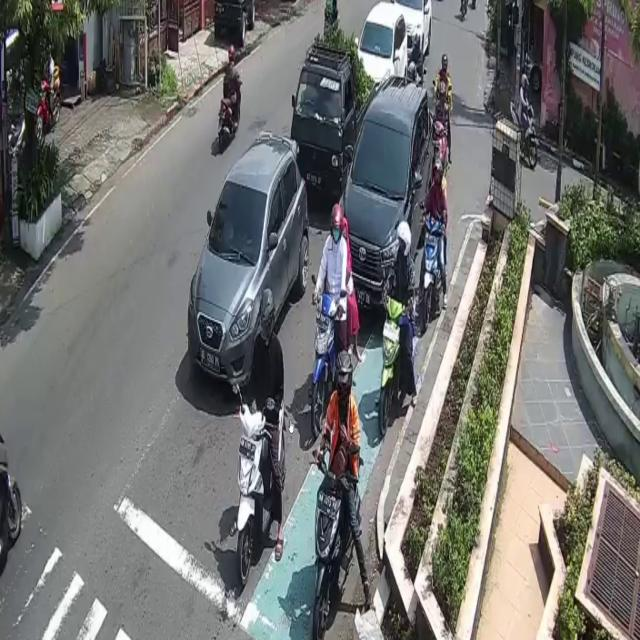bus: (234, 390, 290, 583), (313, 458, 360, 640), (314, 292, 343, 430), (380, 296, 403, 436), (422, 216, 443, 326), (510, 100, 537, 173), (219, 75, 240, 150)
motorcycle: (188, 131, 308, 393), (341, 77, 434, 322), (290, 42, 376, 200), (358, 0, 409, 84), (398, 0, 438, 60)
